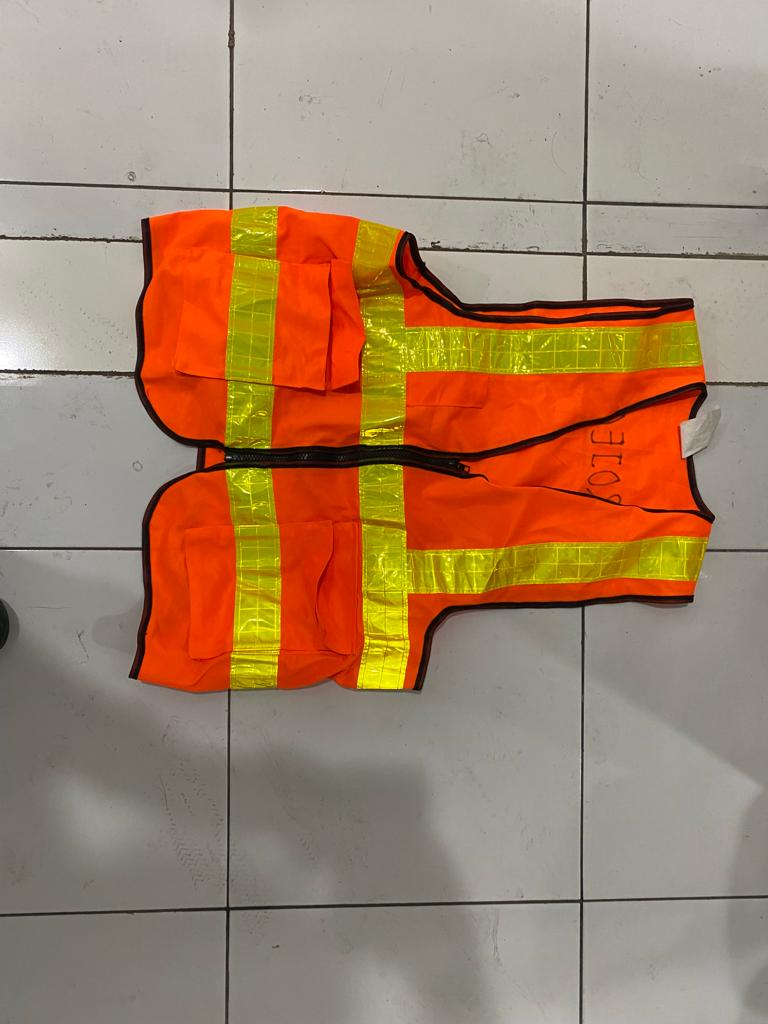ROMPI: (160, 258, 661, 655)
